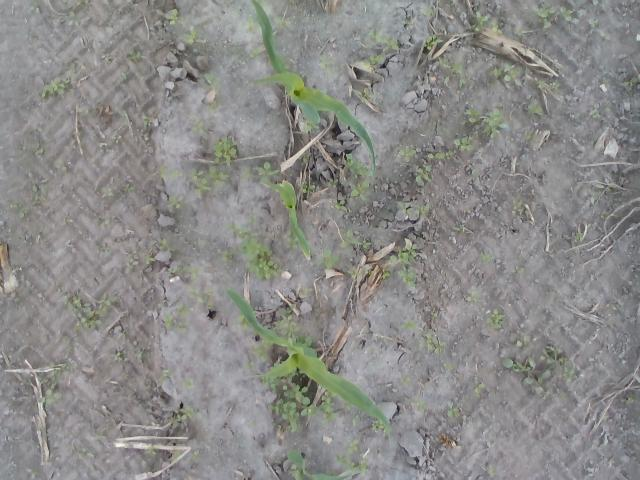Maize: (227, 287, 395, 434), (249, 0, 380, 176), (265, 177, 314, 260), (286, 449, 363, 480)
Weeds: (502, 344, 577, 398), (222, 222, 284, 280), (262, 374, 316, 432), (62, 286, 120, 336), (41, 359, 81, 412), (382, 241, 418, 289), (462, 105, 508, 139), (342, 152, 372, 204), (190, 164, 232, 194), (158, 302, 192, 336), (534, 5, 578, 31), (438, 54, 466, 88), (272, 303, 296, 339), (212, 135, 238, 168), (186, 286, 217, 312), (338, 228, 370, 252), (470, 9, 502, 33), (317, 389, 338, 425), (180, 30, 209, 56), (416, 333, 450, 355), (488, 61, 523, 82), (478, 302, 504, 330), (312, 245, 342, 269), (366, 28, 400, 49), (40, 78, 72, 100), (227, 44, 264, 62), (319, 54, 342, 82), (398, 199, 432, 217), (168, 264, 205, 280), (252, 160, 275, 184), (168, 404, 195, 424), (164, 7, 184, 32), (30, 182, 50, 206), (533, 80, 561, 96), (202, 71, 225, 90), (255, 337, 273, 361), (351, 87, 374, 105), (190, 114, 208, 136), (452, 134, 474, 152), (159, 161, 179, 180), (470, 380, 488, 401), (334, 452, 356, 469), (116, 183, 138, 200), (61, 334, 79, 354), (68, 0, 89, 17), (70, 446, 97, 459), (398, 144, 417, 162), (424, 150, 455, 161), (424, 34, 444, 51), (240, 14, 258, 32), (158, 238, 178, 254), (414, 166, 433, 182), (271, 15, 288, 32), (158, 367, 174, 385), (438, 360, 456, 376), (464, 287, 480, 305), (368, 419, 388, 433), (30, 141, 50, 155), (364, 54, 384, 68), (285, 228, 298, 249), (447, 400, 462, 418), (410, 398, 429, 412), (165, 196, 184, 210), (344, 438, 360, 454), (126, 48, 144, 62), (238, 315, 253, 330), (514, 334, 530, 348), (480, 250, 496, 264), (334, 198, 350, 212), (304, 119, 320, 133), (19, 206, 32, 223), (63, 14, 81, 26), (51, 159, 69, 171), (510, 260, 526, 273), (622, 393, 640, 404), (188, 450, 202, 464), (7, 198, 23, 210), (398, 320, 417, 330), (528, 103, 545, 114), (464, 164, 478, 177), (398, 373, 413, 385), (486, 462, 497, 478), (112, 351, 129, 361), (112, 127, 122, 144), (118, 110, 128, 127), (300, 181, 314, 193), (347, 269, 362, 280), (31, 0, 41, 16), (207, 99, 219, 112), (243, 359, 257, 370), (623, 77, 640, 86), (606, 302, 623, 311), (182, 377, 194, 389), (100, 52, 112, 64), (297, 151, 308, 164), (30, 463, 38, 480), (421, 5, 433, 16), (128, 256, 136, 272), (327, 177, 338, 188), (512, 199, 523, 210), (142, 113, 152, 125), (351, 414, 360, 426), (144, 255, 156, 264), (146, 447, 158, 456), (172, 449, 182, 459), (343, 401, 354, 410), (605, 184, 617, 192), (575, 230, 584, 240), (600, 211, 610, 220), (360, 458, 368, 469), (287, 0, 298, 8), (248, 215, 257, 224), (134, 352, 144, 360), (592, 110, 600, 120), (120, 72, 128, 80), (104, 192, 114, 198), (600, 78, 609, 84), (456, 224, 464, 230), (364, 269, 372, 275)
